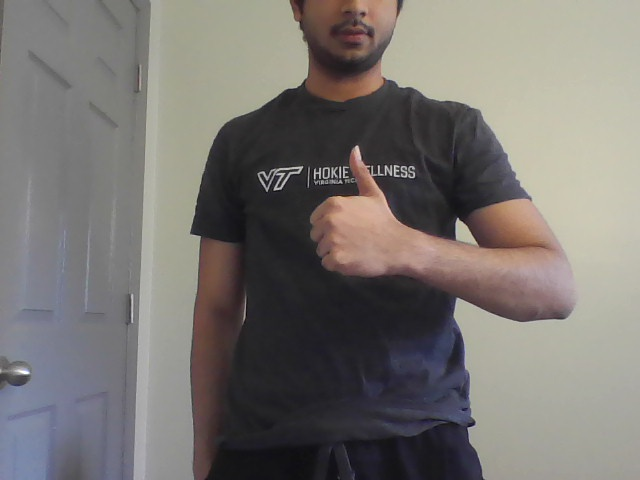confirm: (304, 142, 411, 282)
